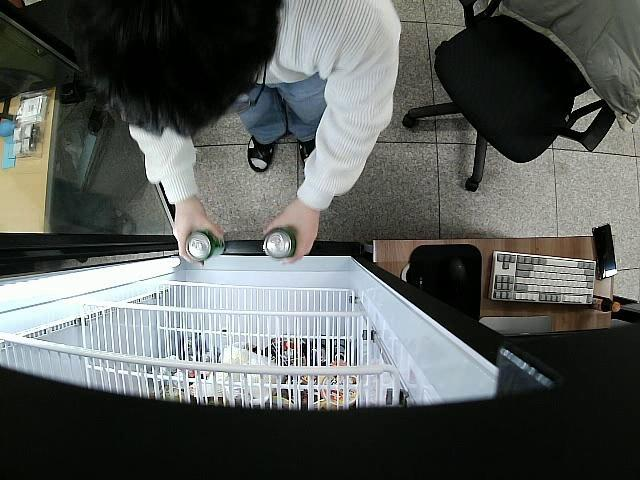12_chilsungCider: (186, 228, 227, 262), (262, 228, 296, 260)
